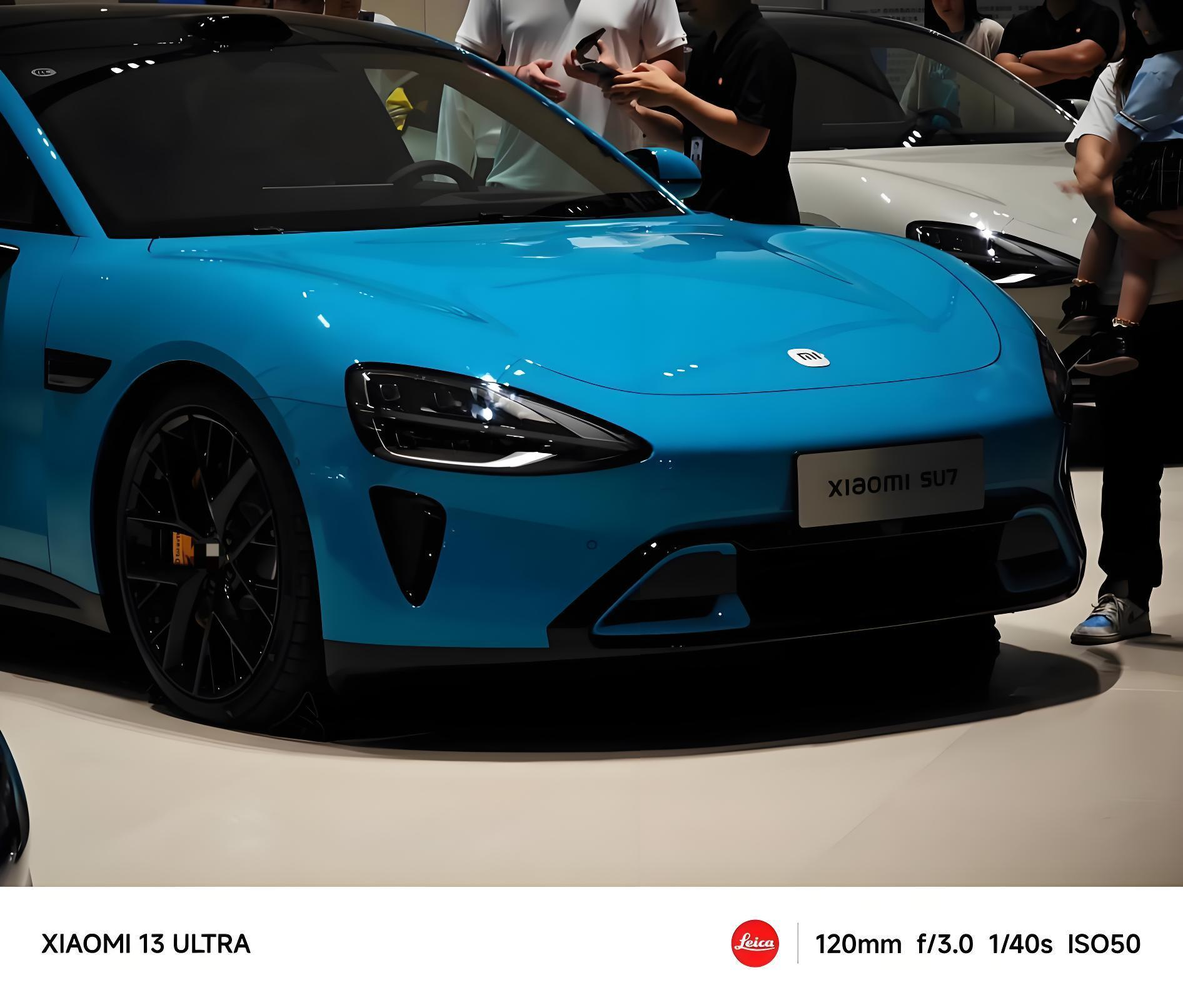XIAOMI: (788, 349, 831, 367)
